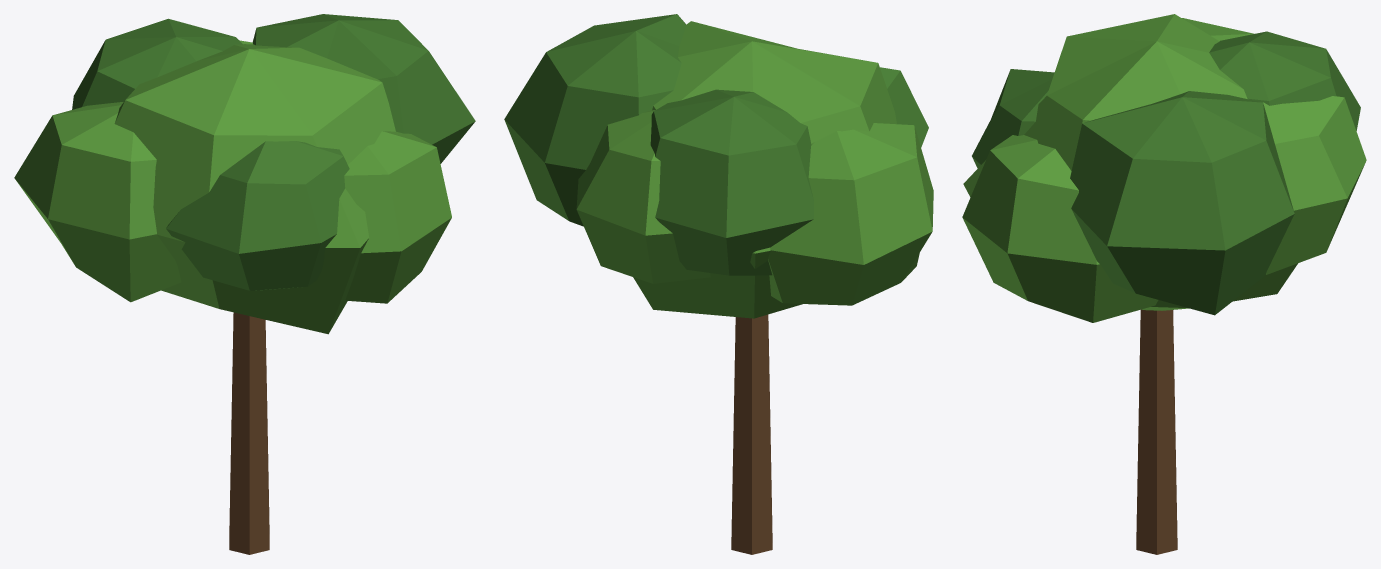
The model's file is tree_oak_b.glb.
3 views of the same model, side by side, from view 1: azimuth 30°, elevation 25°; view 2: azimuth 150°, elevation 25°; view 3: azimuth 270°, elevation 25° (orthographic).
Visible parts, largest first — view 1: tree_oak_b; view 2: tree_oak_b; view 3: tree_oak_b.
Part boxes in pixels (x1,y1,x2,y2): tree_oak_b: (14,14,475,554); tree_oak_b: (504,14,933,554); tree_oak_b: (962,14,1366,554).
Size of the model in its own units: 7.49 by 8.88 by 6.46.
